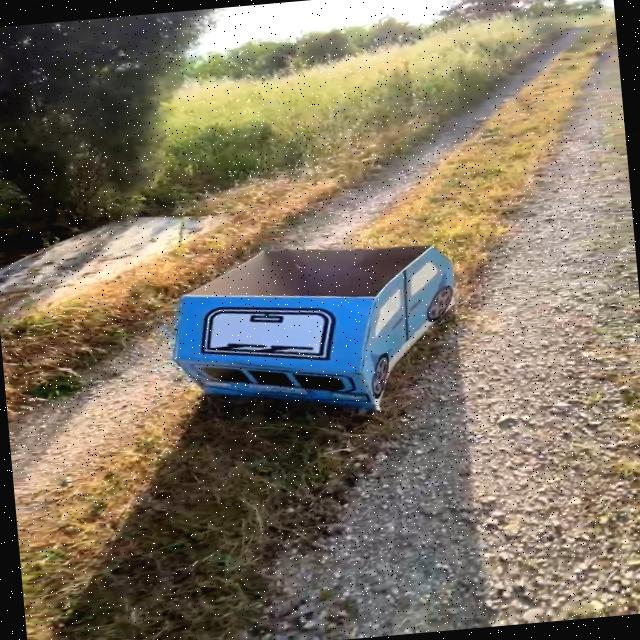blue_car: (100, 209, 540, 460)
